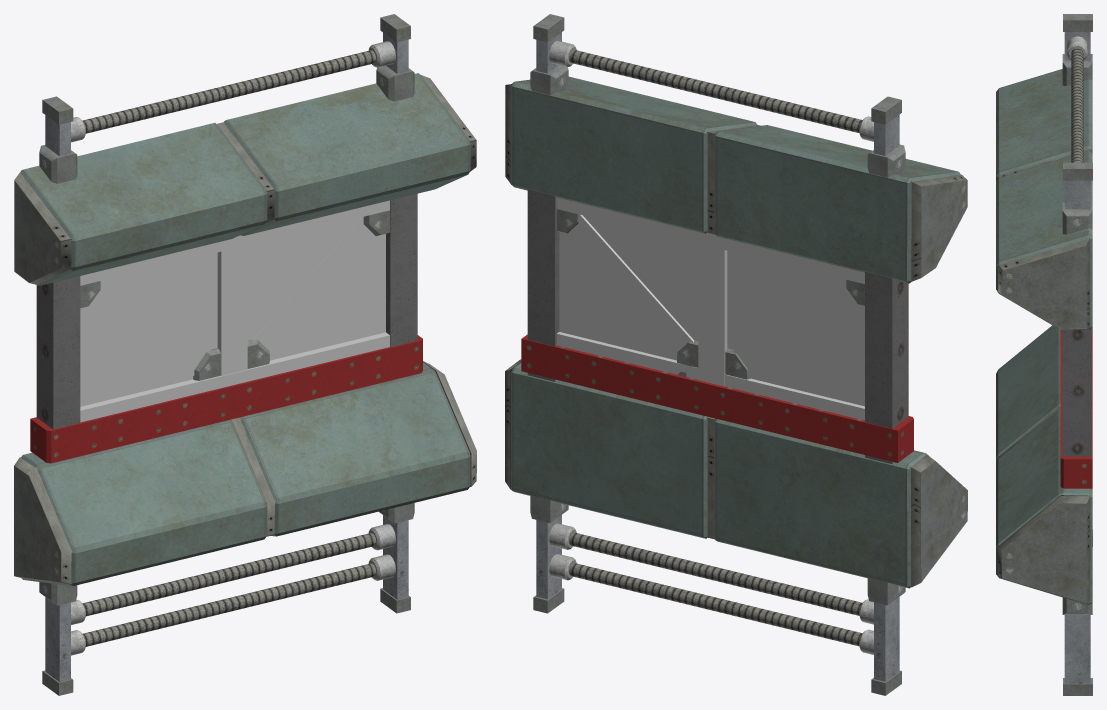
The model's file is Ob_FloatingWallSingle.fbx.
The picture shows the model from 3 angles, left to right: view 1: azimuth 30°, elevation 25°; view 2: azimuth 150°, elevation 25°; view 3: azimuth 270°, elevation 25°; orthographic projection. The views are drawn at different scales.
Visible parts, largest first — view 1: Ob_FloatingWallSingle; view 2: Ob_FloatingWallSingle; view 3: Ob_FloatingWallSingle.
Boxes of the visible parts, left/top/right/bottom form: Ob_FloatingWallSingle: left=14, top=14, right=476, bottom=695; Ob_FloatingWallSingle: left=505, top=14, right=967, bottom=695; Ob_FloatingWallSingle: left=996, top=14, right=1092, bottom=695.
Size of the model in its own units: 1345 by 1804 by 301.
